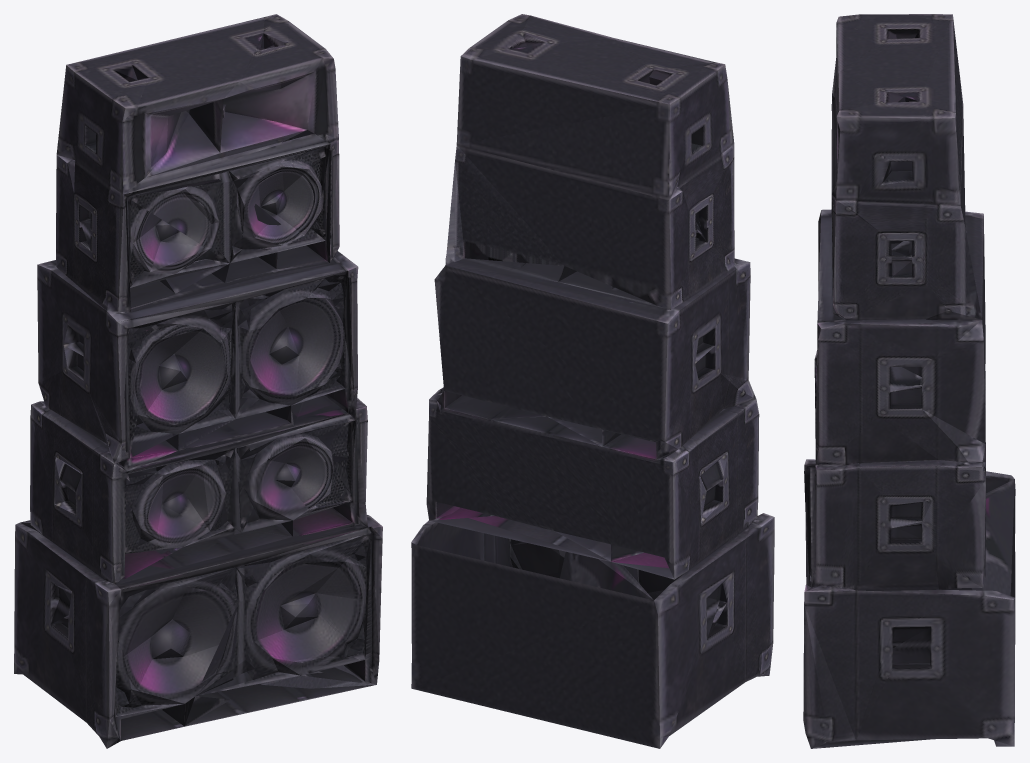
Rendered from speaker_updated_opt.glb.
3 renders of one model, left to right at view 1: azimuth 30°, elevation 25°; view 2: azimuth 150°, elevation 25°; view 3: azimuth 270°, elevation 25°, orthographic.
Visible parts, largest first — view 1: output_unwrapped; view 2: output_unwrapped; view 3: output_unwrapped.
Part boxes in pixels (x1,y1,x2,y2): output_unwrapped: (14, 14, 382, 748); output_unwrapped: (411, 14, 774, 748); output_unwrapped: (803, 14, 1015, 748).
Bounding box in the file's own units: 0.8804 × 1.9 × 0.5878.
1 material, 1 textured.
